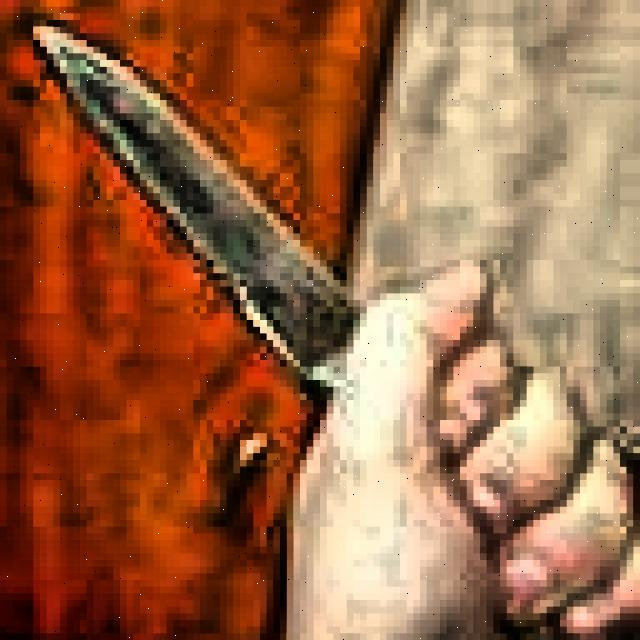knife: (26, 26, 633, 640)
